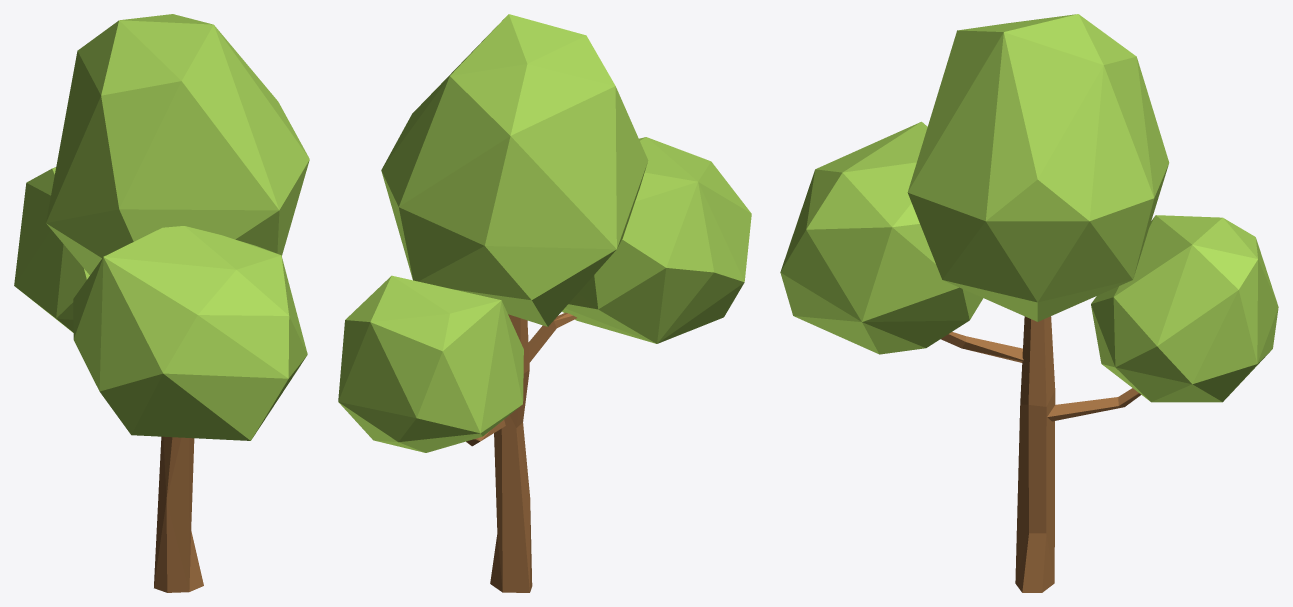
The model's file is tree3 color.fbx.
3 views of the same model, side by side, from view 1: azimuth 30°, elevation 25°; view 2: azimuth 150°, elevation 25°; view 3: azimuth 270°, elevation 25° (orthographic). The views are drawn at different scales.
Parts seen in each view (by area): view 1: Icosphere.002, Icosphere.003, Icosphere.004, Cylinder.002; view 2: Icosphere.002, Icosphere.004, Icosphere.003, Cylinder.002, Cylinder.003; view 3: Icosphere.002, Icosphere.003, Icosphere.004, Cylinder.002, Cylinder.003.
Part boxes in pixels (box(x1,y1,x2,y2)): Icosphere.002: box(46, 14, 309, 274); Icosphere.003: box(73, 226, 307, 440); Icosphere.004: box(14, 167, 89, 332); Cylinder.002: box(154, 436, 203, 592); Icosphere.002: box(381, 14, 648, 326); Icosphere.004: box(338, 275, 523, 452); Icosphere.003: box(562, 137, 751, 343); Cylinder.002: box(490, 314, 532, 592); Cylinder.003: box(466, 312, 576, 446); Icosphere.002: box(907, 14, 1169, 321); Icosphere.003: box(780, 121, 983, 354); Icosphere.004: box(1091, 215, 1278, 402); Cylinder.002: box(1015, 316, 1055, 592); Cylinder.003: box(941, 332, 1140, 421).
Size of the model in its own units: 347 by 712 by 573.
